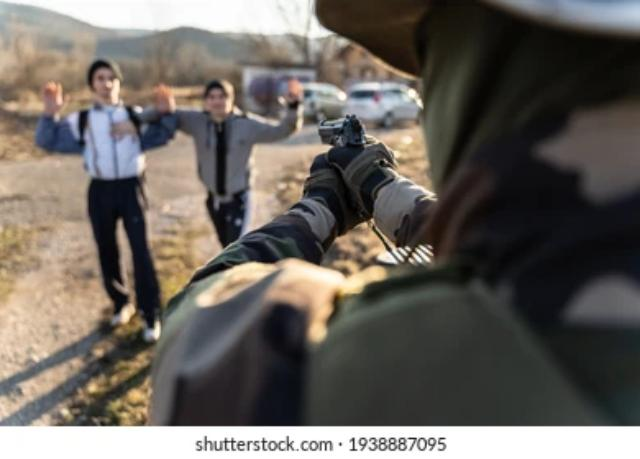other: (237, 0, 639, 435), (75, 55, 163, 316), (190, 76, 256, 223)
